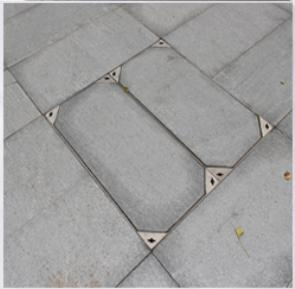wellcover: (42, 25, 279, 257)
